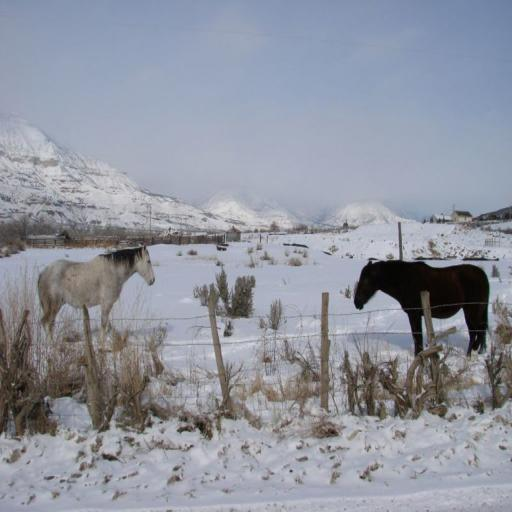horse: (354, 258, 490, 356), (38, 242, 156, 350)
